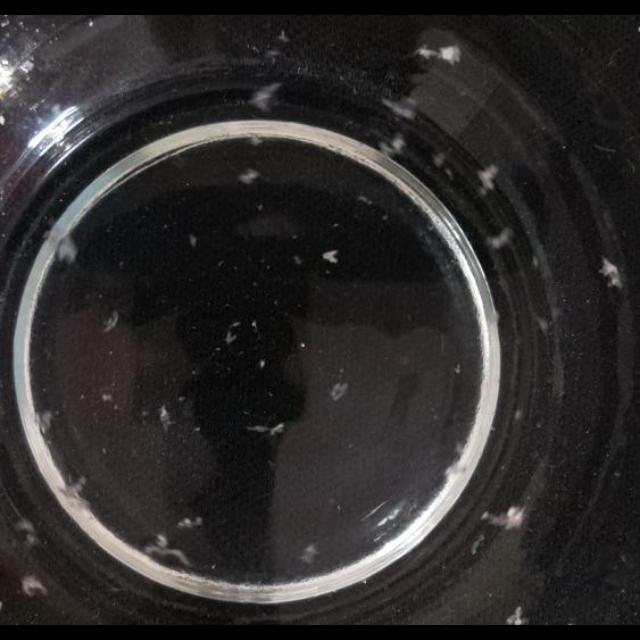Fibre: (60, 484, 106, 528), (143, 537, 195, 571), (442, 453, 474, 491), (484, 506, 524, 532), (600, 257, 622, 289), (20, 576, 48, 598), (158, 404, 176, 432), (329, 378, 348, 402), (177, 514, 203, 530), (506, 605, 526, 625), (300, 544, 320, 564)
microbeads: (15, 516, 38, 540), (154, 534, 168, 550), (101, 393, 113, 403), (188, 233, 196, 247), (453, 362, 461, 373), (258, 359, 266, 369), (294, 255, 302, 265), (178, 393, 186, 402), (252, 320, 258, 330), (193, 426, 200, 434), (335, 504, 341, 512), (258, 204, 264, 212), (299, 341, 305, 347)
